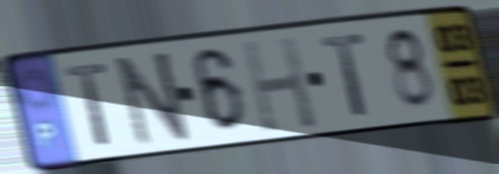6: (191, 46, 248, 136)
8: (384, 25, 438, 113)
H: (238, 32, 320, 136)
N: (111, 47, 194, 150)
T: (318, 30, 371, 120), (62, 59, 114, 150)
